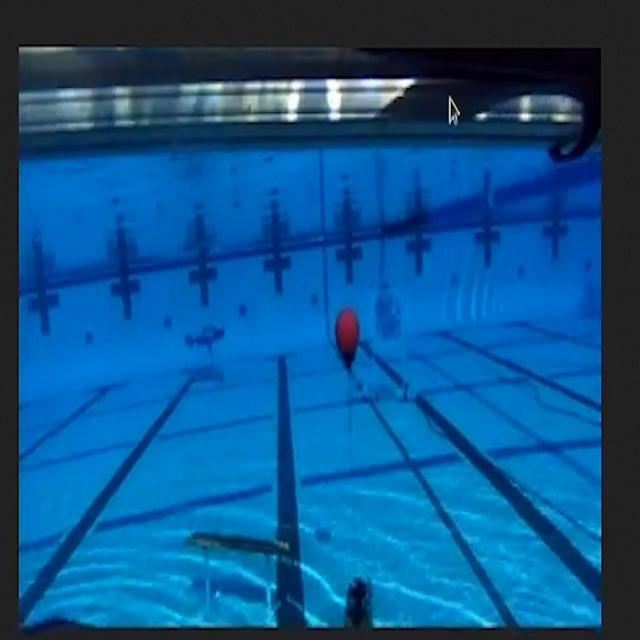Buoy: (325, 299, 365, 384)
Path: (172, 500, 297, 604)
